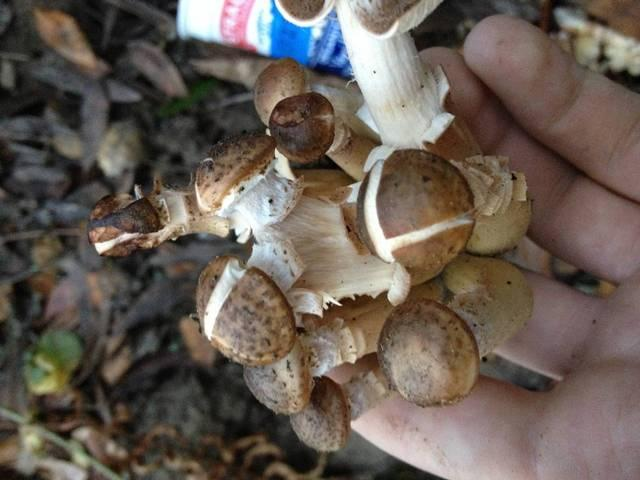edible_mushroom: (86, 49, 561, 452)
